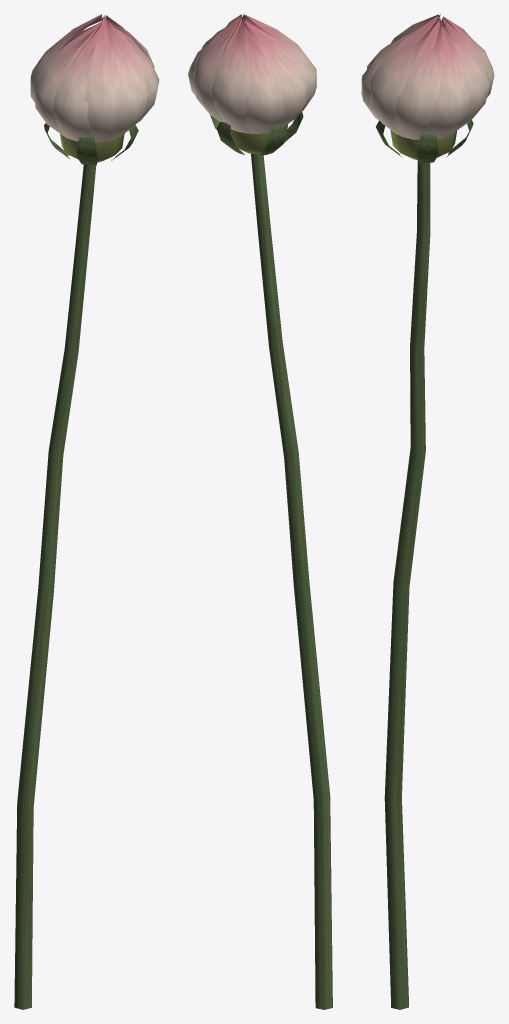
Rendered from lotus_flower_bud.glb.
The picture shows the model from 3 angles, left to right: view 1: azimuth 30°, elevation 25°; view 2: azimuth 210°, elevation 25°; view 3: azimuth 330°, elevation 25°; orthographic projection. The views are drawn at different scales.
Visible parts, largest first — view 1: lotus_flower_bud; view 2: lotus_flower_bud; view 3: lotus_flower_bud.
Part boxes in pixels (x1,y1,x2,y2): lotus_flower_bud: [14, 14, 159, 1009]; lotus_flower_bud: [188, 14, 332, 1009]; lotus_flower_bud: [361, 14, 494, 1009].
Size of the model in its own units: 0.1053 by 0.8648 by 0.1001.
1 material, 1 textured.
